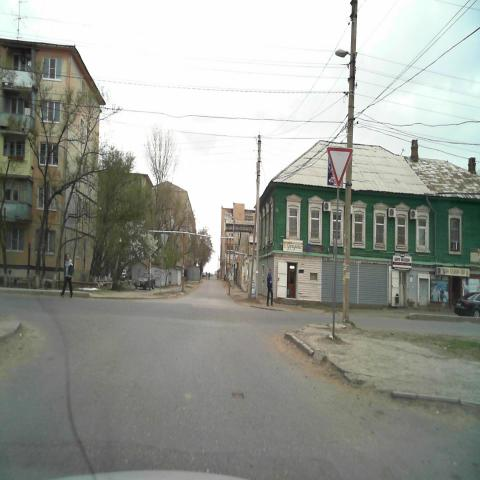2_4: (327, 146, 353, 188)
